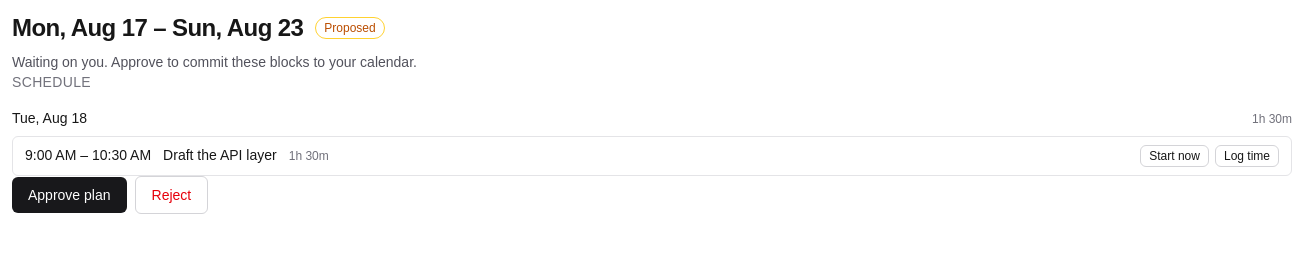
Scenario: PlanDetail › falls back to a generic message for a non-API failure
The width and height of the screenshot is (1304, 271).
Click the button "Approve plan" at x=69, y=195, box 12,177 -> 126,213
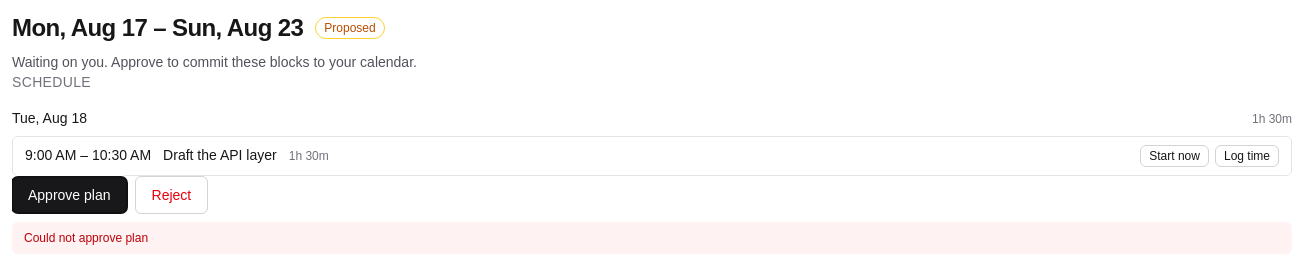
Check: the message reads "Could not approve plan", box 24,231 -> 148,245
